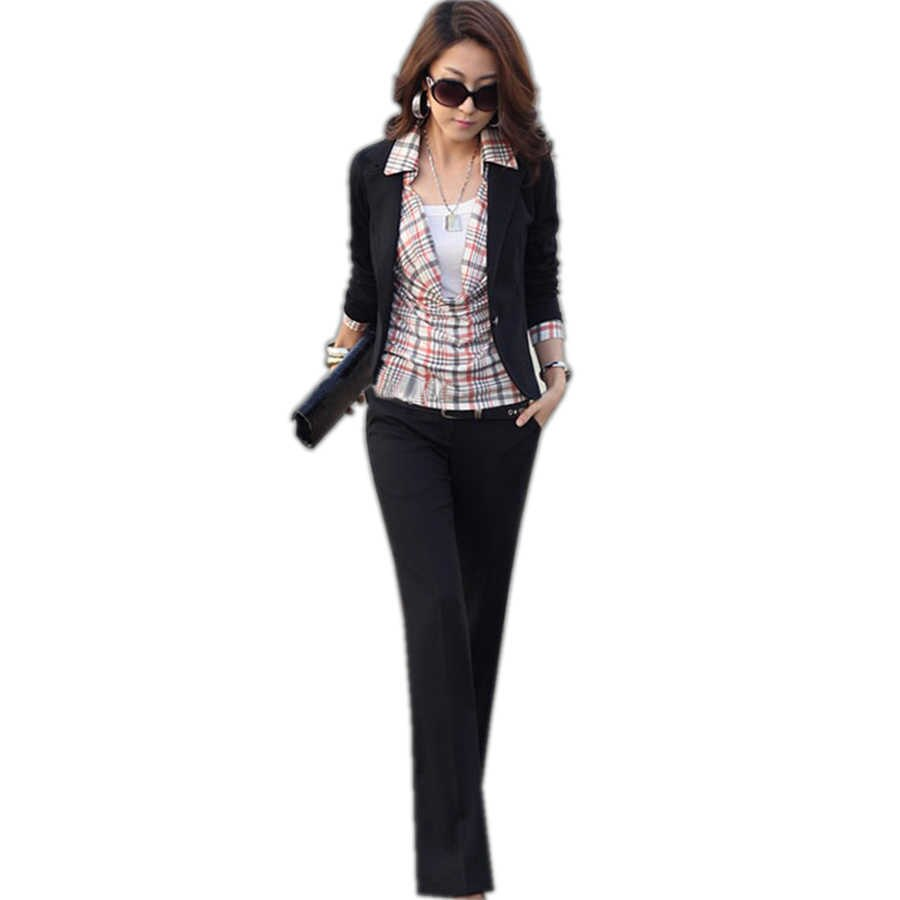F_W_suit jacket: (319, 121, 584, 400)
